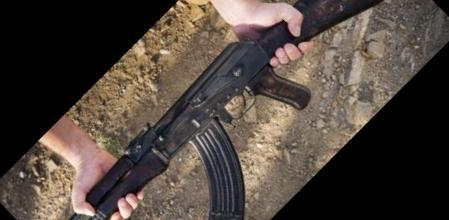larga: (68, 0, 385, 220)
